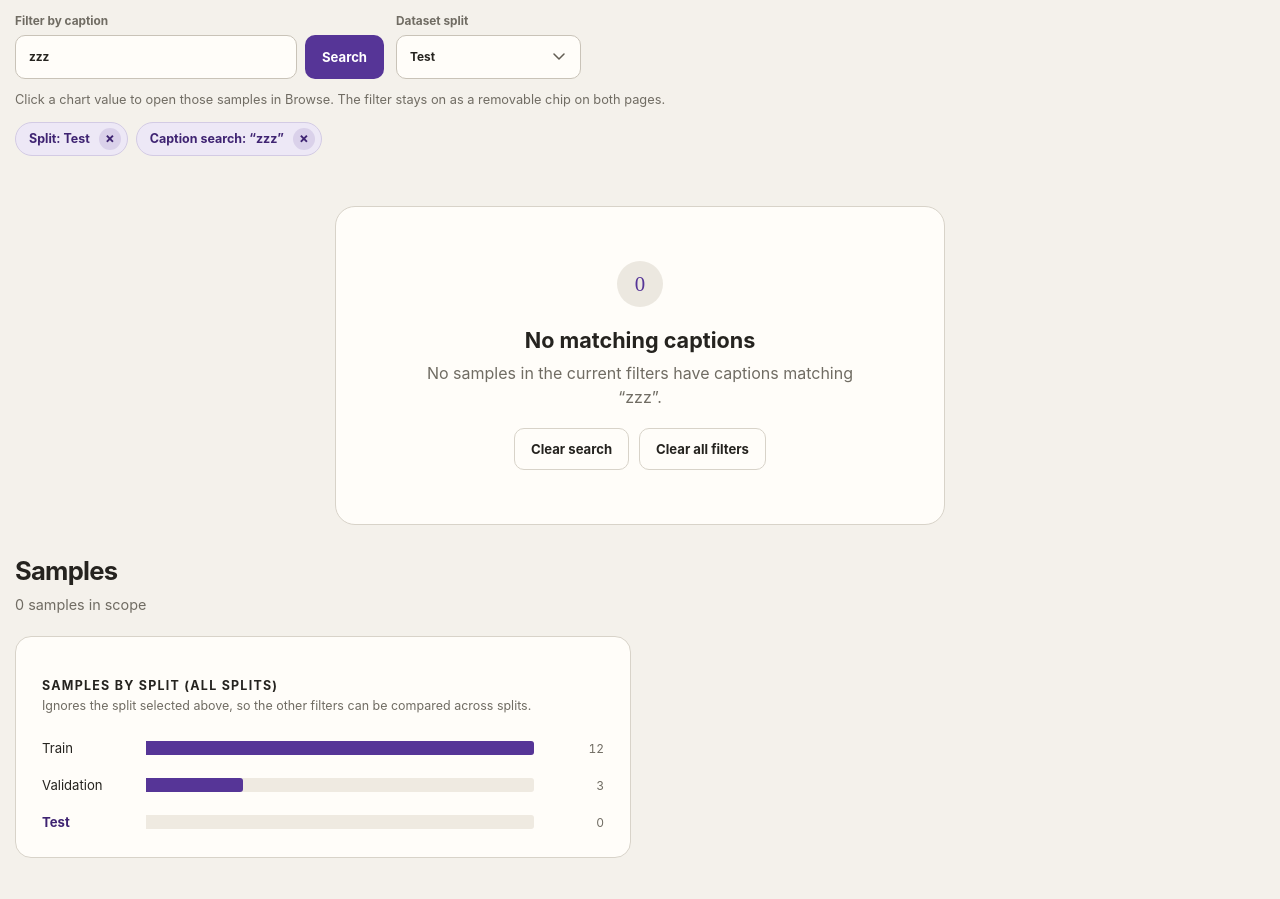
Test: compares other splits when the selected split has no matches
Expected: the heading "No matching captions" is shown, [525, 326, 755, 352]
Expected: the heading "Samples by split (all splits)" is shown, [42, 678, 278, 693]
Step 1. Click the button "Clear search" → (572, 449), box [514, 428, 629, 470]
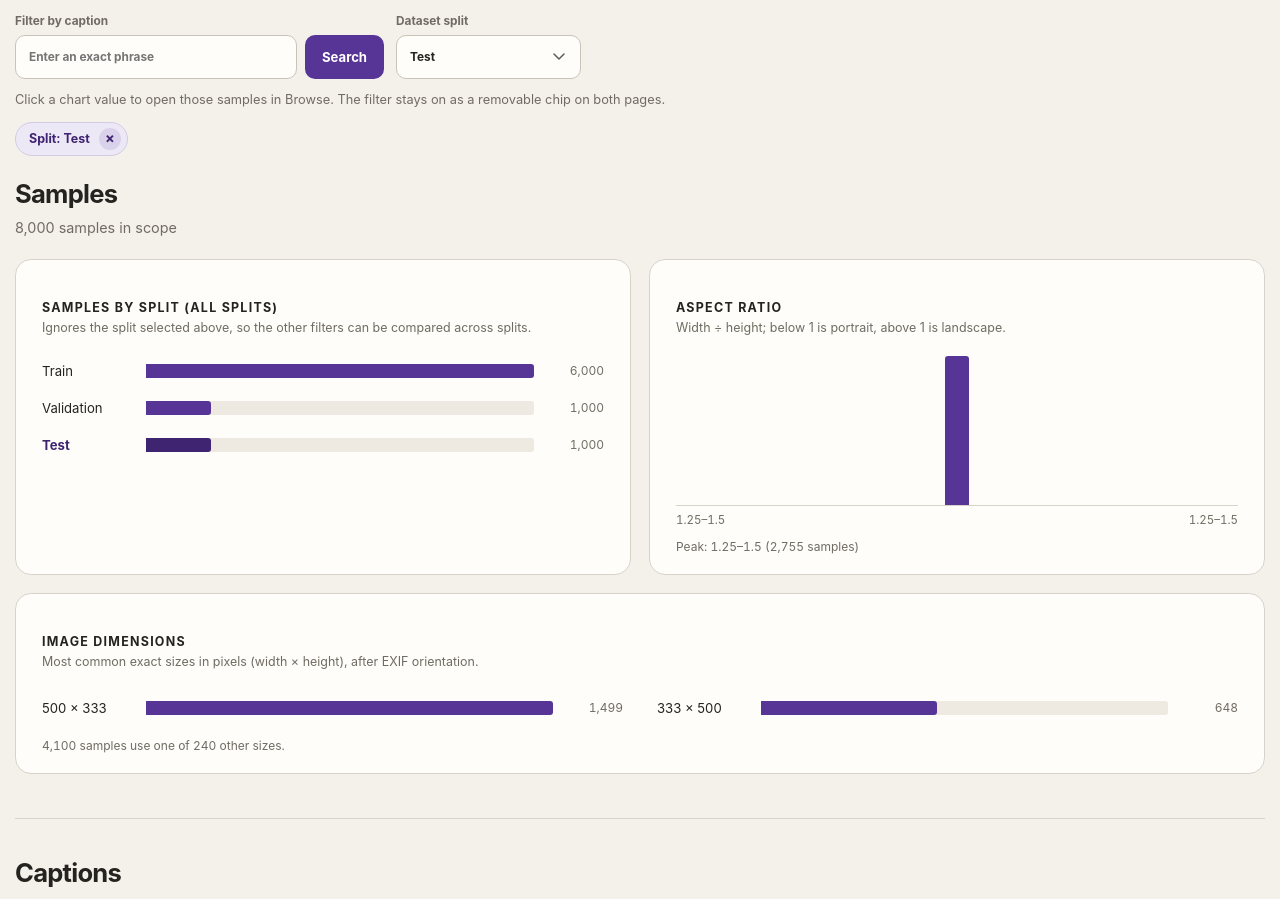
Now the text "8,000 samples in scope" is shown, box [15, 218, 177, 236]
